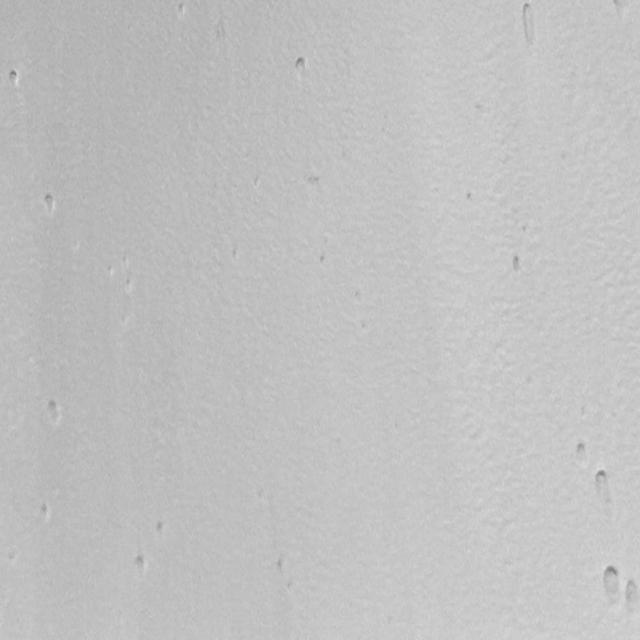pin holes: (598, 564, 627, 615), (42, 396, 64, 426), (607, 0, 634, 23), (594, 467, 614, 498), (39, 189, 60, 217), (290, 54, 310, 80), (622, 574, 638, 606), (508, 252, 528, 277), (571, 439, 590, 464), (5, 66, 25, 89), (36, 502, 56, 524), (272, 555, 292, 576), (132, 552, 150, 574), (304, 171, 326, 189), (154, 518, 170, 537), (7, 548, 22, 566), (176, 2, 191, 19), (464, 188, 477, 205), (104, 262, 116, 279), (285, 580, 298, 595), (123, 277, 135, 292)
